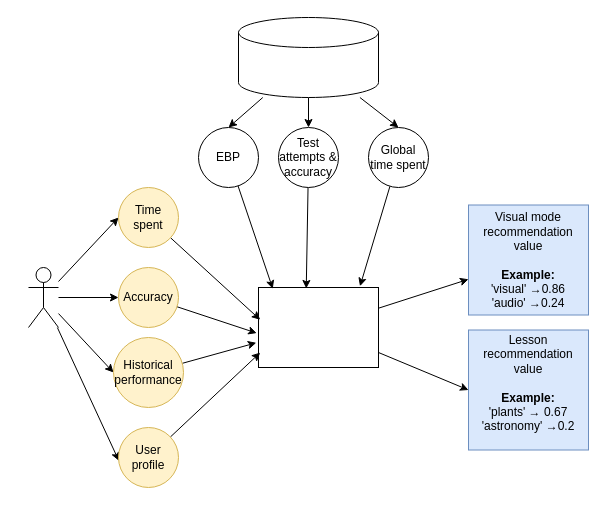
This 606x505 diagram has some shape labels left out. The shapes that lost their labels are listed below. From the top down, each one's centre as x and y in pixels, then its label:
At point 308,57: "Assessment data".
At point 43,297: "Your child".
At point 318,327: "Multi-layer LSTM network".
